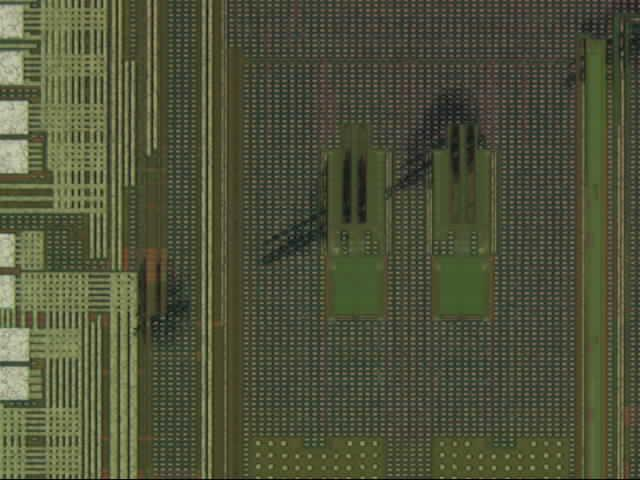SCRATCH: (89, 1, 640, 362)
